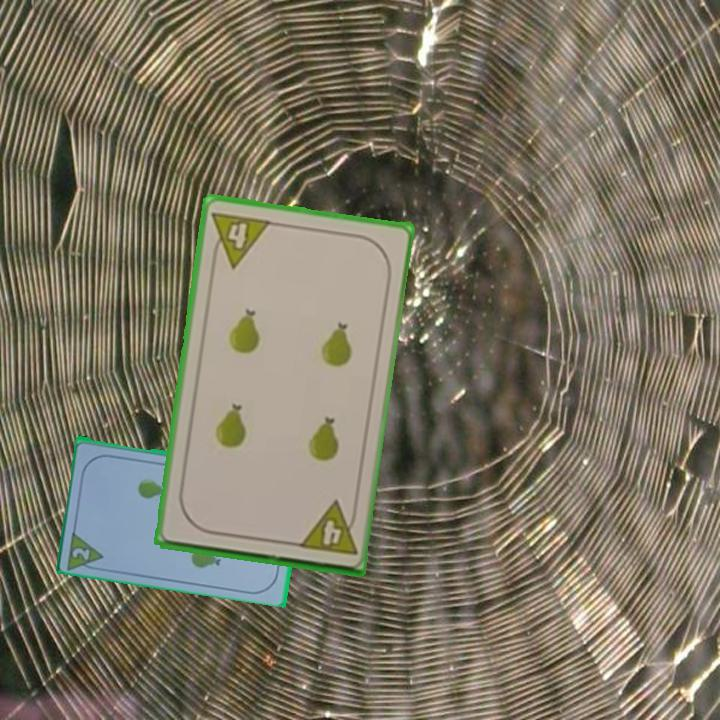2p: (64, 526, 107, 573)
4p: (207, 207, 274, 271), (295, 498, 360, 558)
